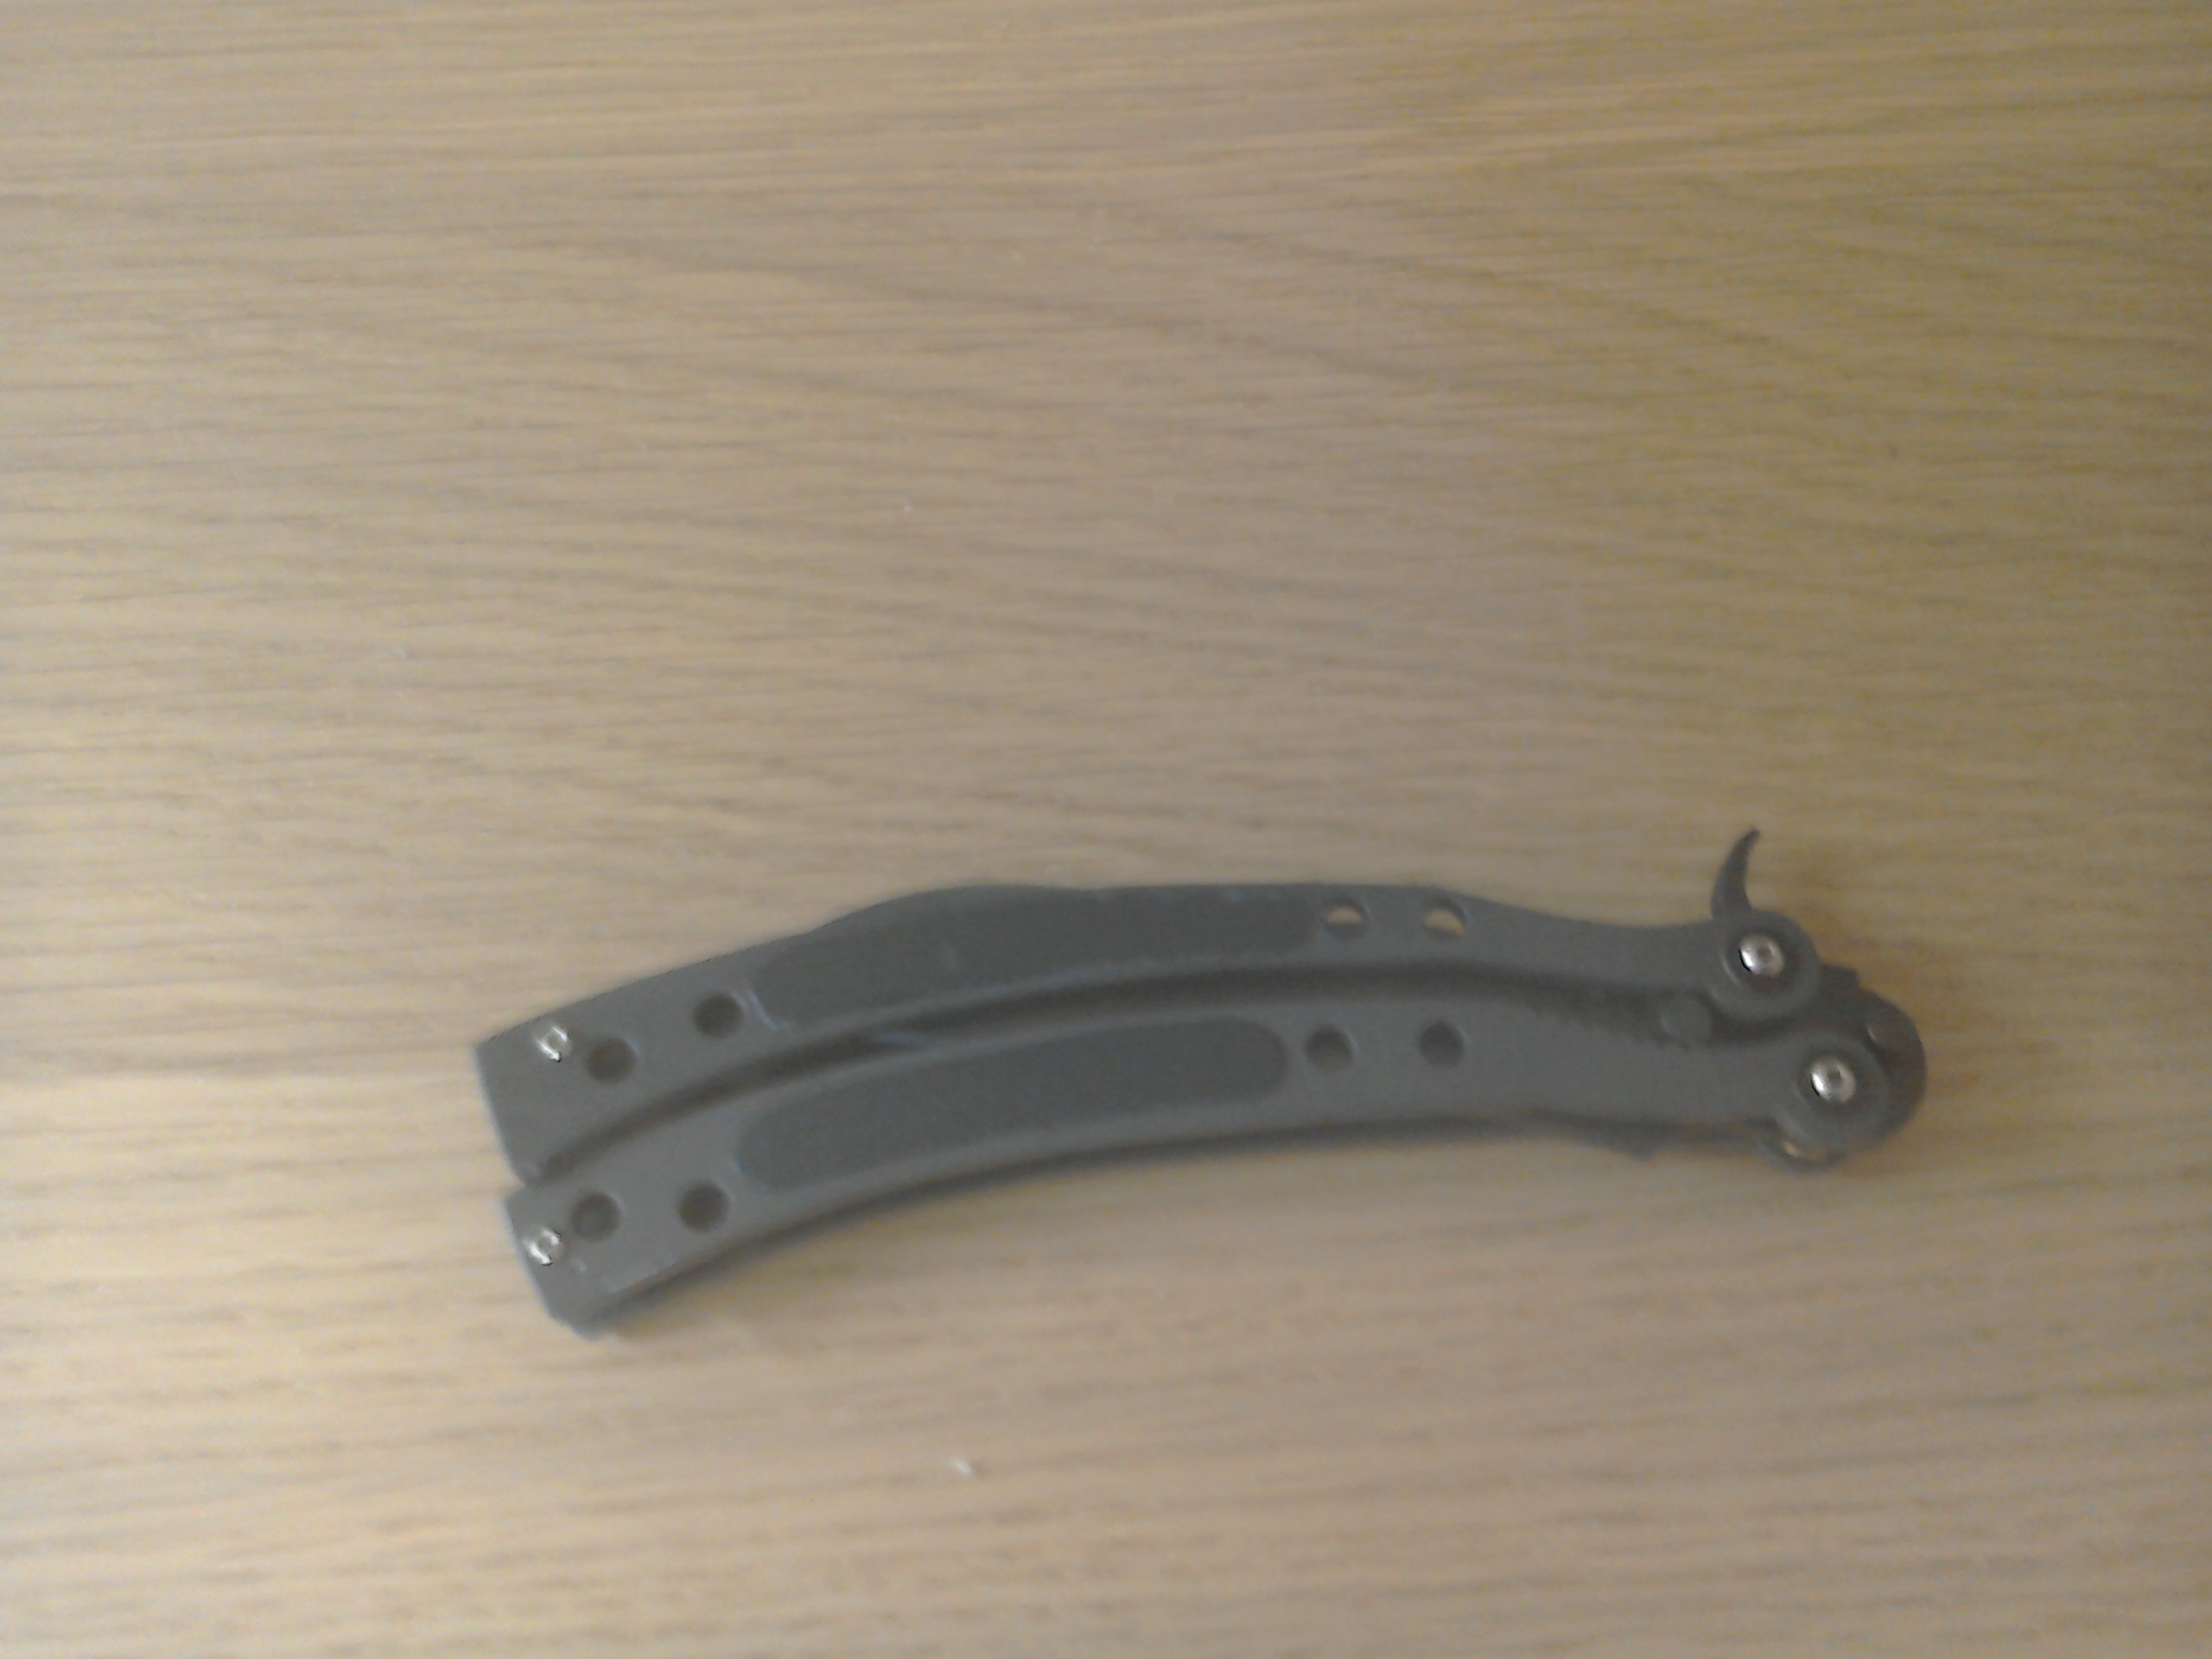knife: (442, 819, 1949, 1345)
